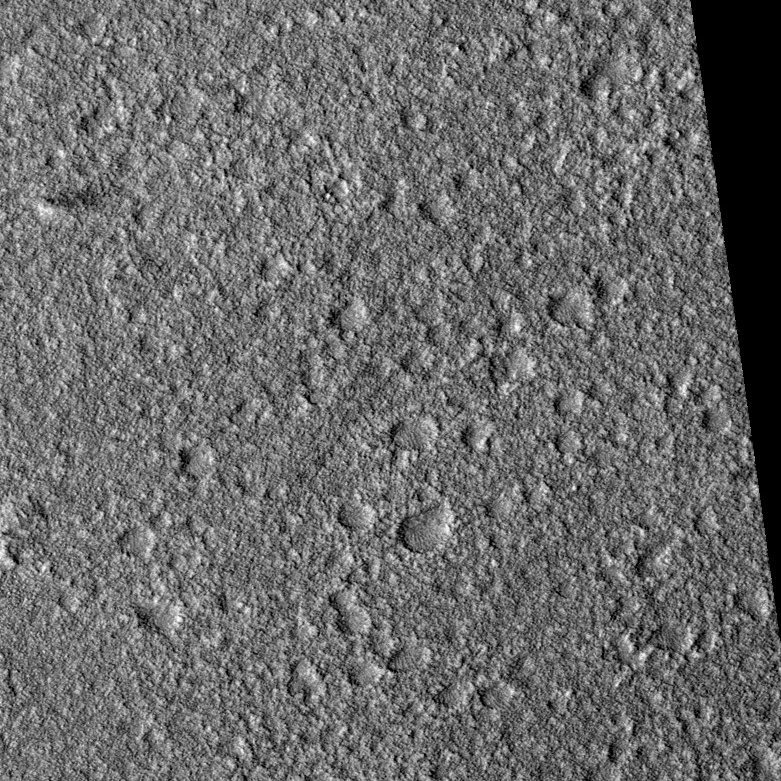dust_devil: (33, 175, 105, 229)
